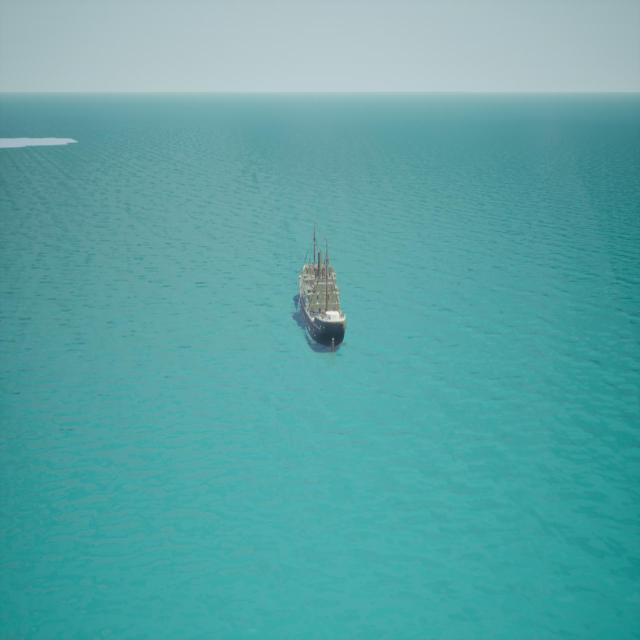fishing ship: (295, 228, 347, 355)
